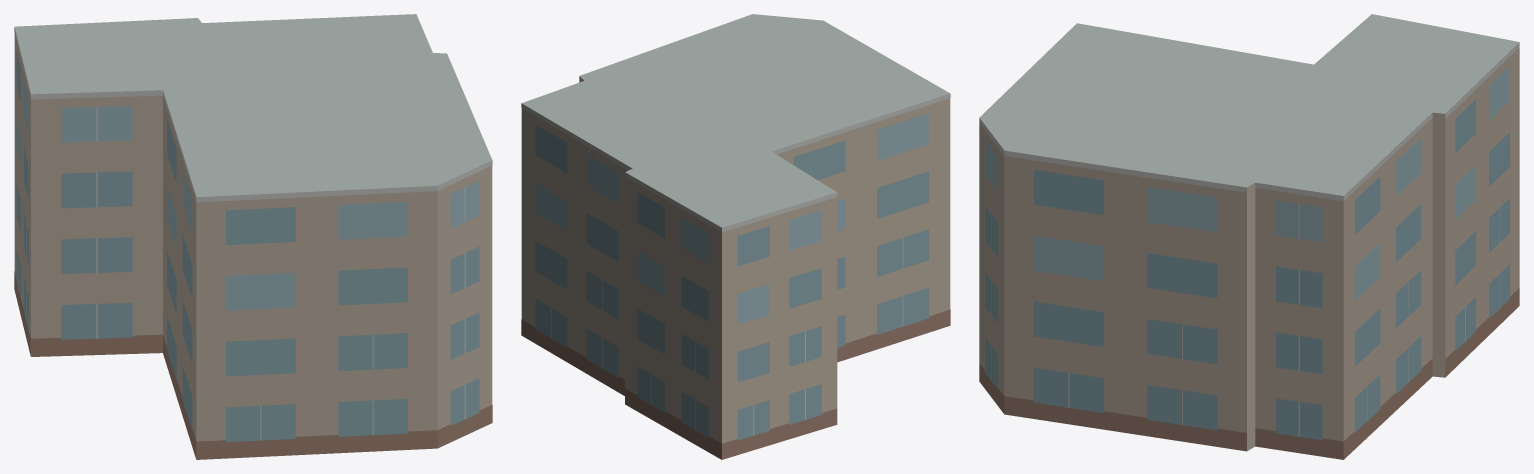
The model's file is survey-upis-32645247.glb.
The picture shows the model from 3 angles, left to right: view 1: azimuth 30°, elevation 25°; view 2: azimuth 150°, elevation 25°; view 3: azimuth 270°, elevation 25°; orthographic projection. The views are drawn at different scales.
Visible parts, largest first — view 1: survey-upis-32645247.tmp; view 2: survey-upis-32645247.tmp; view 3: survey-upis-32645247.tmp.
Part boxes in pixels (x1,y1,x2,y2): survey-upis-32645247.tmp: (14,14,492,459); survey-upis-32645247.tmp: (521,14,950,459); survey-upis-32645247.tmp: (979,14,1519,459).
Bounding box in the file's own units: 18.06 × 12.2 × 22.64.
